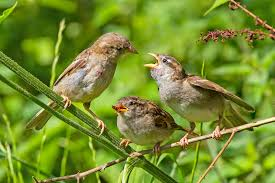hsparrow: (24, 29, 139, 136), (142, 51, 266, 143), (112, 94, 197, 159)
